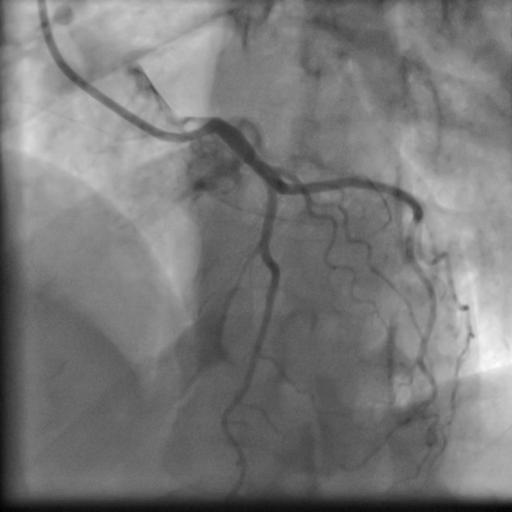Stenosis: (267, 182, 282, 220)
